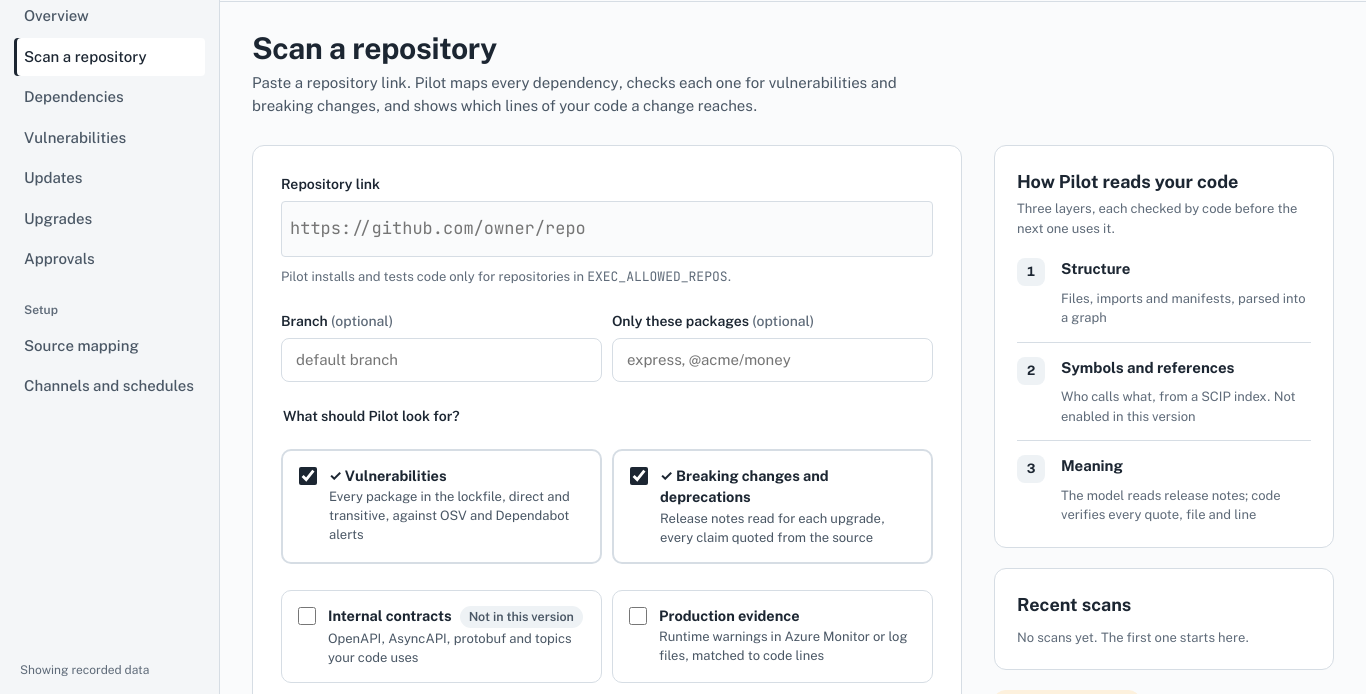
Scenario: Scan a repository › says a scan of an unlisted public repository is read-only
This screenshot has width=1366, height=694.
Type "https://github.com/acme/shop" into the field labelled "Repository link". click: (607, 229)
box: [281, 201, 933, 257]
(page scrolled)
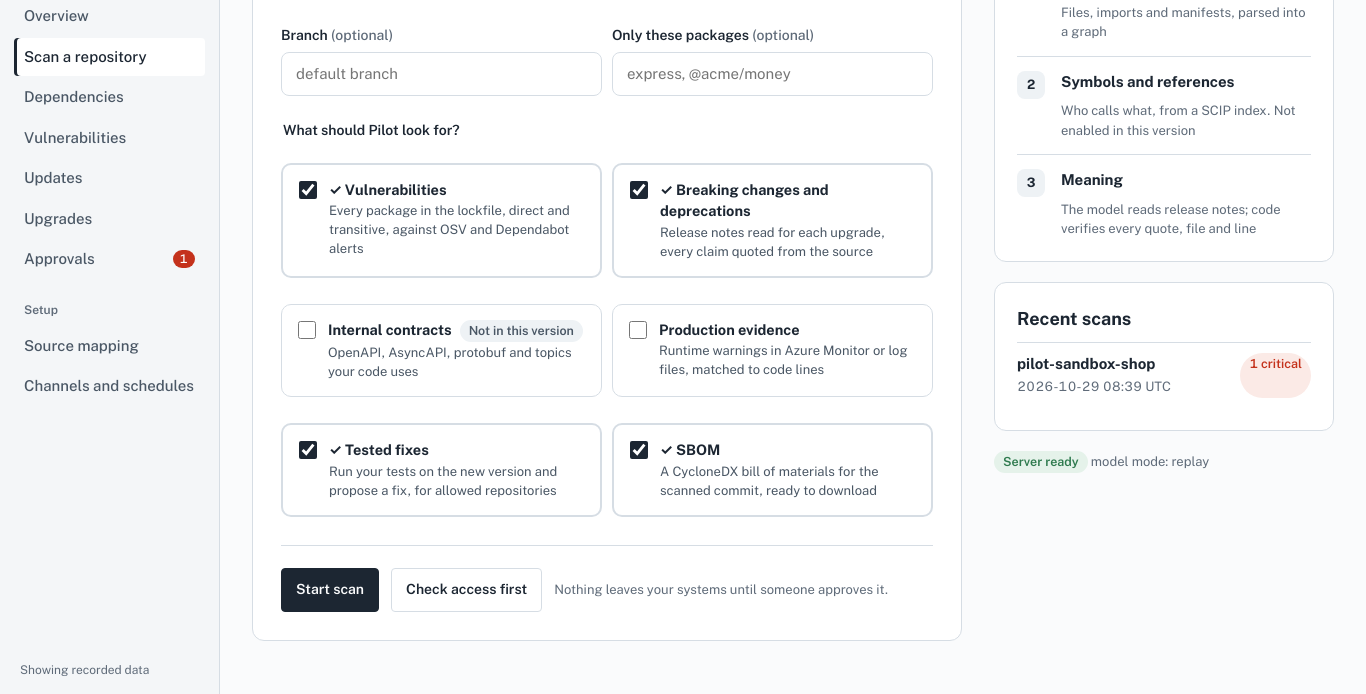
Click the button "Check access first". click: (467, 590)
box: [391, 568, 542, 612]
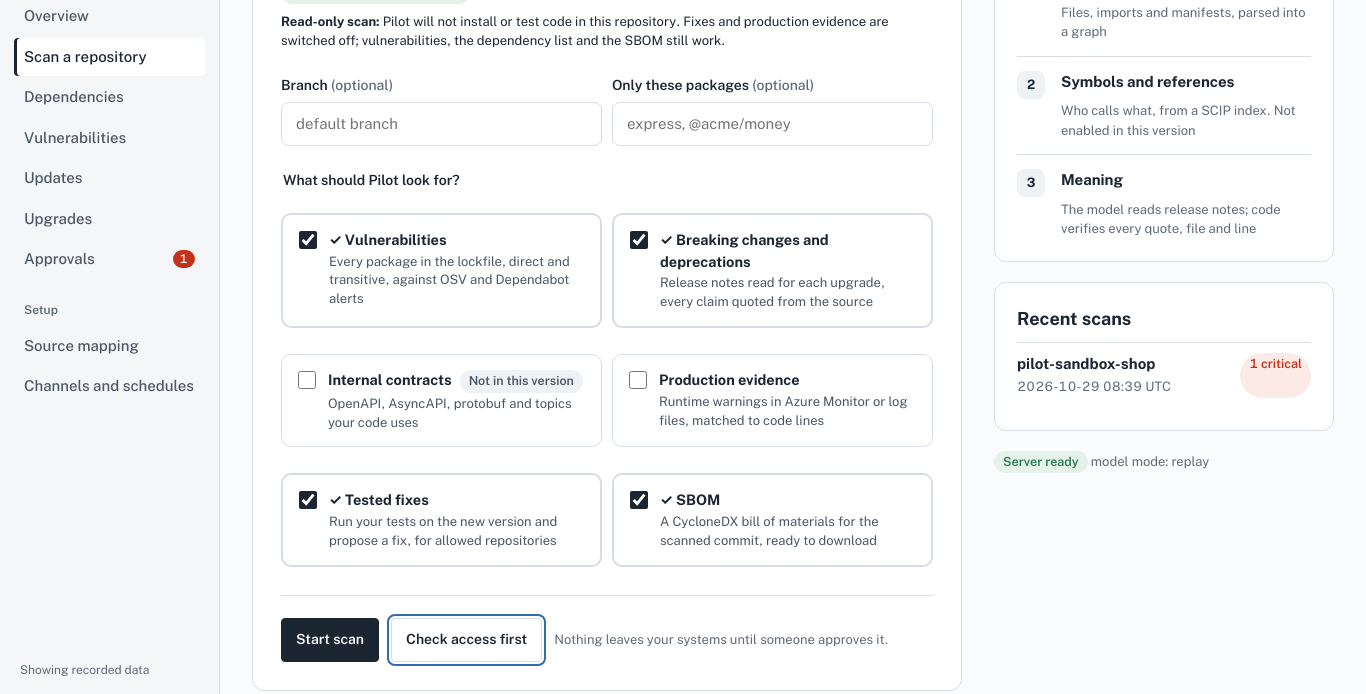
Now the element that starts with "Read-only scan:" shows "Read-only scan: Pilot will not install or test code", box [281, 12, 933, 51]
